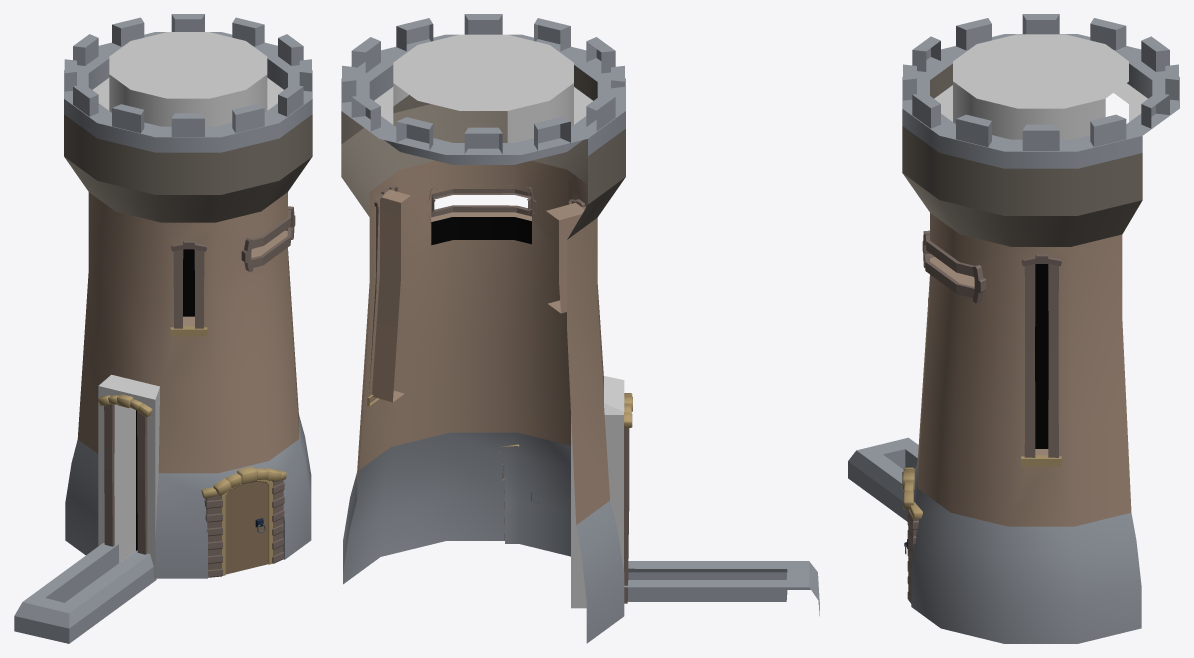
The model's file is theTower.fbx.
3 views of the same model, side by side, from view 1: azimuth 30°, elevation 25°; view 2: azimuth 150°, elevation 25°; view 3: azimuth 270°, elevation 25° (orthographic). The views are drawn at different scales.
Visible parts, largest first — view 1: tower_ref; view 2: tower_ref; view 3: tower_ref.
Part boxes in pixels (bbox=[...]): tower_ref: bbox=[14, 14, 312, 643]; tower_ref: bbox=[341, 14, 819, 643]; tower_ref: bbox=[848, 14, 1179, 643].
Bounding box in the file's own units: 930 × 1210 × 701.
